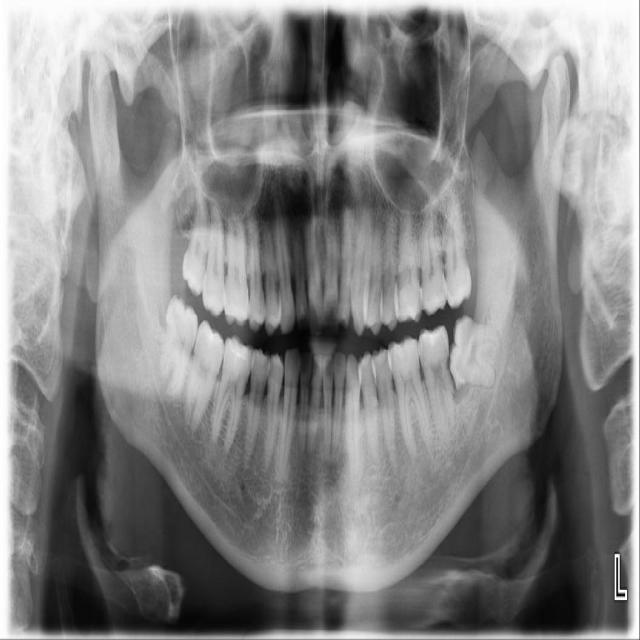Caries: (446, 359, 449, 370)
impacted tooth: (152, 298, 200, 398), (449, 315, 507, 387)
